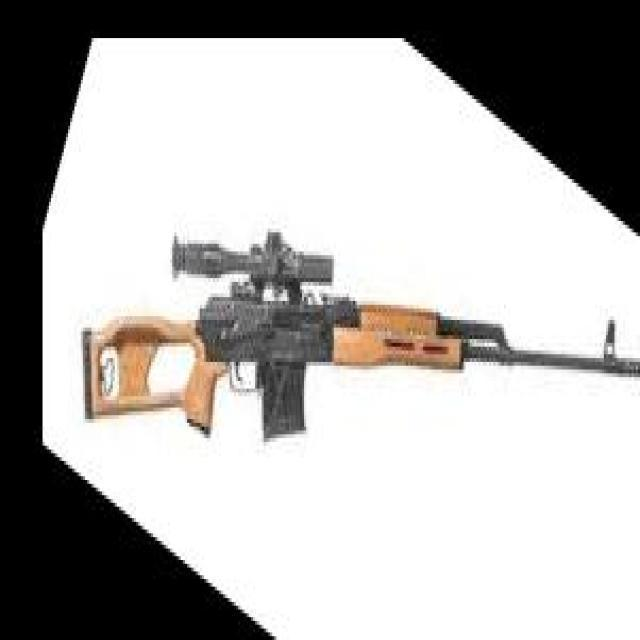Rifle: (81, 230, 640, 446)
